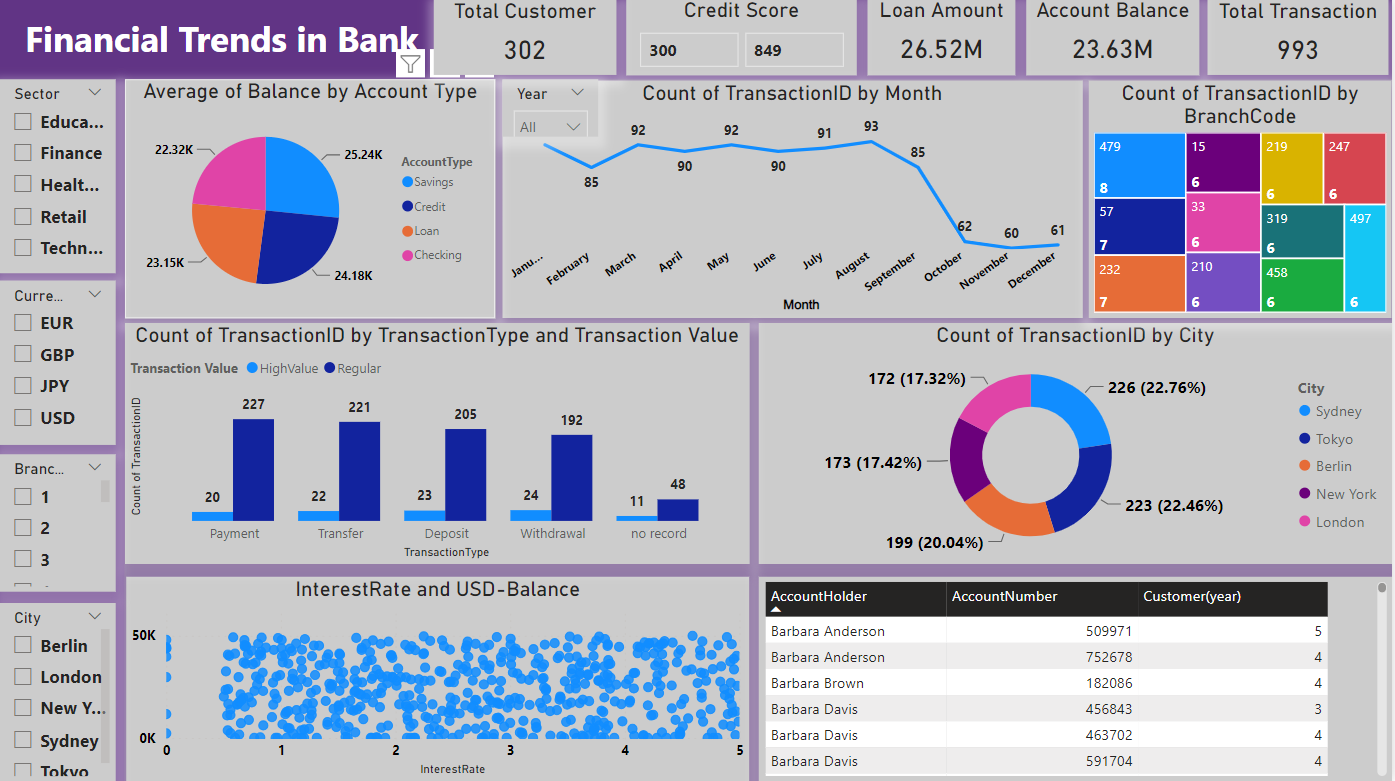

Layout of this report page (visuals, bound fields, positions):
{"tool":"powerbi","page":{"name":"Dasboard","canvas":[1280,720],"ordinal":0},"visuals":[{"type":"shape","box":[0,74.8,114.6,645.4],"z":0},{"type":"shape","box":[0,0,1280,74.8],"z":1000},{"type":"card","title":"Total Transaction","fields":{"Values":["Merge1.TransactionVolume"]},"box":[1110.6,1.2,166.5,70],"z":2000},{"type":"textbox","box":[0,10.9,407.8,57.9],"z":3000},{"type":"card","title":"Account Balance","fields":{"Values":["Merge1.Balance"]},"box":[943.4,0,159.3,71.2],"z":4000},{"type":"card","title":"Loan Amount","fields":{"Values":["Merge1.LoanAmount"]},"box":[797.5,0,136.3,71.2],"z":5000},{"type":"slicer","title":" Credit Score","fields":{"Values":["Merge1.CreditScore"]},"box":[575.5,0,212.3,71.2],"z":6000},{"type":"lineChart","fields":{"Category":["Merge1.TransactionDate.Variation.Date Hierarchy.Month"],"Y":["Merge1.TransactionID"]},"box":[461.9,76.4,533.2,218.4],"z":8000},{"type":"pieChart","title":"Average of Balance by Account Type","fields":{"Category":["Merge1.AccountType"],"Y":["Merge1.Balance"]},"box":[114.6,74.8,341,220],"z":9000},{"type":"donutChart","fields":{"Category":["Merge1.City"],"Y":["Merge1.TransactionID"]},"box":[697.3,299.2,582.7,222],"z":10000},{"type":"treemap","fields":{"Group":["Merge1.BranchCode"],"Values":["Merge1.TransactionID"]},"box":[1001.3,76.4,278.7,218.4],"z":11000},{"type":"scatterChart","fields":{"X":["Merge1.InterestRate"],"Y":["Merge1.USD-Balance"]},"box":[115.8,532,573.1,188.2],"z":12000},{"type":"clusteredColumnChart","fields":{"Category":["Merge1.TransactionType"],"Y":["Merge1.TransactionID"],"Series":["Merge1.Transaction Value"]},"box":[114.6,299.2,574.3,222],"z":13000},{"type":"tableEx","fields":{"Values":["Merge1.AccountHolder","Merge1.AccountNumber","Merge1.Customer(year)"]},"box":[697.3,532,582.7,188.2],"z":14000},{"type":"slicer","fields":{"Values":["Merge1.TransactionDate.Variation.Date Hierarchy.Year"]},"box":[462.1,74.8,88.1,53.1],"z":15000},{"type":"slicer","fields":{"Values":["Merge1.Sector"]},"box":[0,74.8,106.2,178.6],"z":16000},{"type":"slicer","fields":{"Values":["Merge1.Currency"]},"box":[0,259.4,106.2,150.8],"z":17000},{"type":"slicer","fields":{"Values":["Merge1.BranchCode"]},"box":[0,419.8,106.2,126.7],"z":18000},{"type":"slicer","fields":{"Values":["Merge1.City"]},"box":[0,556.2,106.2,164.1],"z":19000},{"type":"card","title":"Total Customer","fields":{"Values":["Merge1.AccountHolder"]},"box":[399.3,1.2,167.7,70],"z":20000}]}

Visuals, with their boxes in screenshot pixels (x1, y1, x2, y2), scaled from the page's 1280x720 canvas onto the 1395x781 screenshot:
shape: BBox(0, 81, 125, 780)
shape: BBox(0, 0, 1394, 81)
"Total Transaction" card: BBox(1210, 1, 1392, 77)
textbox: BBox(0, 12, 444, 75)
"Account Balance" card: BBox(1028, 0, 1202, 77)
"Loan Amount" card: BBox(869, 0, 1018, 77)
" Credit Score" slicer: BBox(627, 0, 859, 77)
lineChart - Merge1.TransactionDate.Variation.Date Hierarchy.Month x Merge1.TransactionID: BBox(503, 83, 1085, 320)
"Average of Balance by Account Type" pieChart: BBox(125, 81, 497, 320)
donutChart - Merge1.City x Merge1.TransactionID: BBox(760, 325, 1394, 565)
treemap - Merge1.BranchCode x Merge1.TransactionID: BBox(1091, 83, 1394, 320)
scatterChart - Merge1.InterestRate x Merge1.USD-Balance: BBox(126, 577, 751, 780)
clusteredColumnChart - Merge1.TransactionType x Merge1.TransactionID: BBox(125, 325, 751, 565)
tableEx - Merge1.AccountHolder x Merge1.AccountNumber: BBox(760, 577, 1394, 780)
slicer - Merge1.TransactionDate.Variation.Date Hierarchy.Year: BBox(504, 81, 600, 139)
slicer - Merge1.Sector: BBox(0, 81, 116, 275)
slicer - Merge1.Currency: BBox(0, 281, 116, 445)
slicer - Merge1.BranchCode: BBox(0, 455, 116, 593)
slicer - Merge1.City: BBox(0, 603, 116, 780)
"Total Customer" card: BBox(435, 1, 618, 77)
